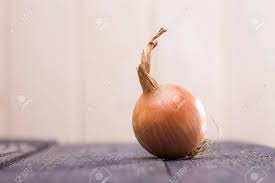onion: (130, 64, 208, 161)
